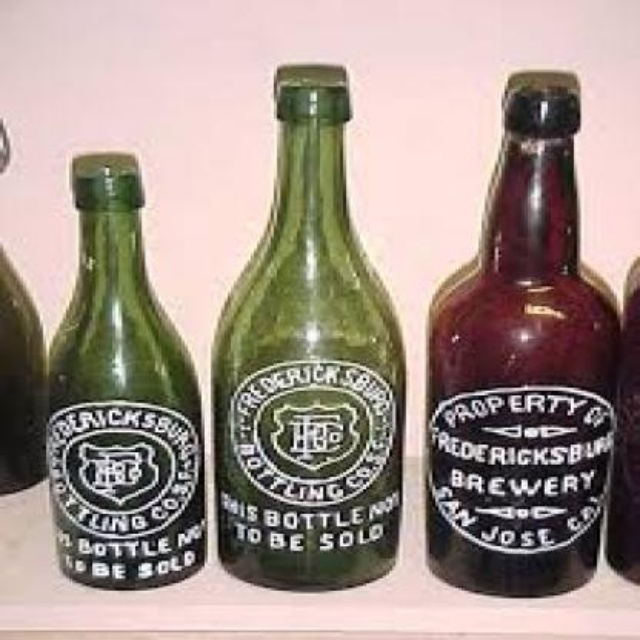trash: (212, 65, 403, 588), (428, 71, 617, 595), (48, 152, 203, 588)
